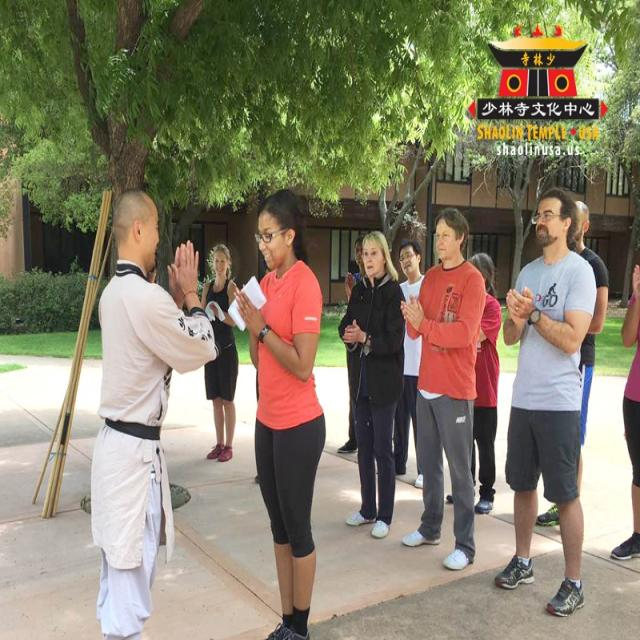body: (92, 188, 220, 639), (487, 186, 591, 618), (235, 187, 328, 639), (396, 199, 488, 573), (535, 194, 610, 532), (337, 231, 406, 538), (443, 250, 503, 513), (198, 240, 242, 464), (609, 252, 640, 561), (392, 236, 426, 487), (336, 236, 366, 454), (145, 259, 160, 277)
